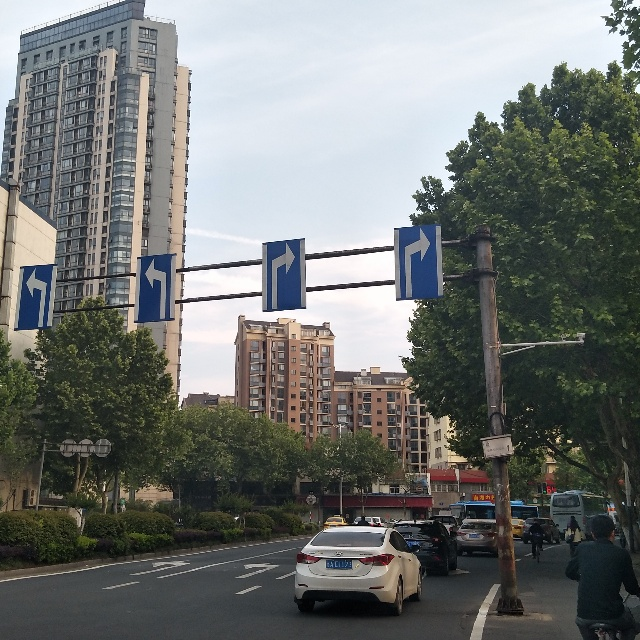left: (130, 253, 177, 326), (15, 261, 56, 338)
right: (392, 222, 447, 307), (266, 235, 311, 317)
